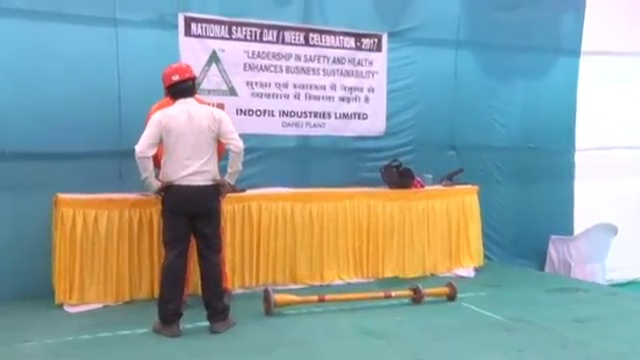helmet: (160, 61, 198, 89)
helmet_on: (158, 63, 198, 100)
person: (134, 60, 244, 333)
